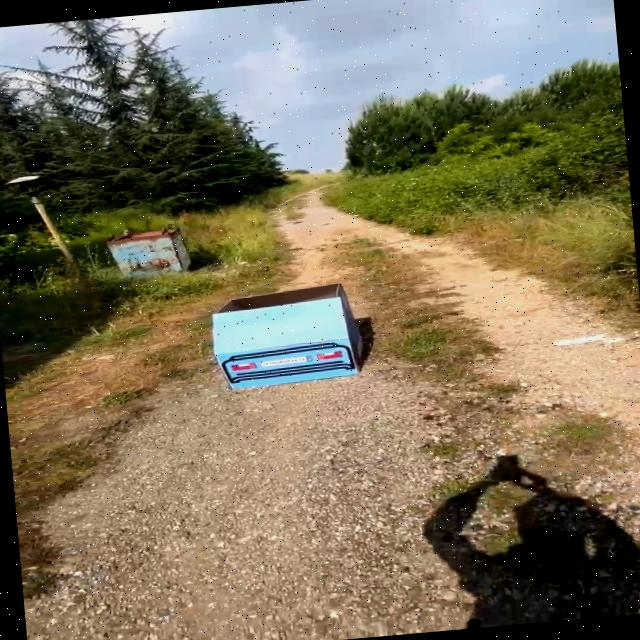blue_car: (175, 269, 405, 410)
